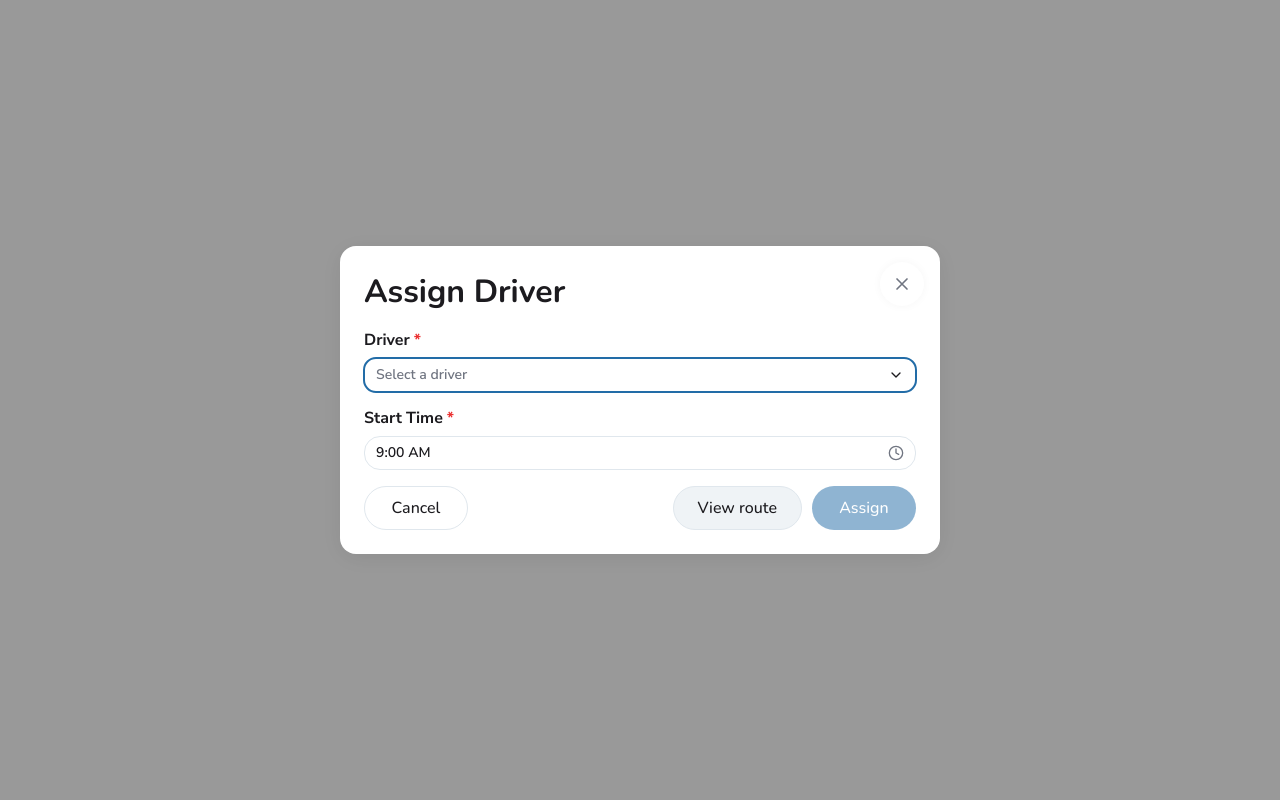
Test: ReassignDriverModal › surfaces the error when the assignment is rejected
This screenshot has width=1280, height=800.
Click the dropdown.
click(422, 374)  # box [364,358,916,392]
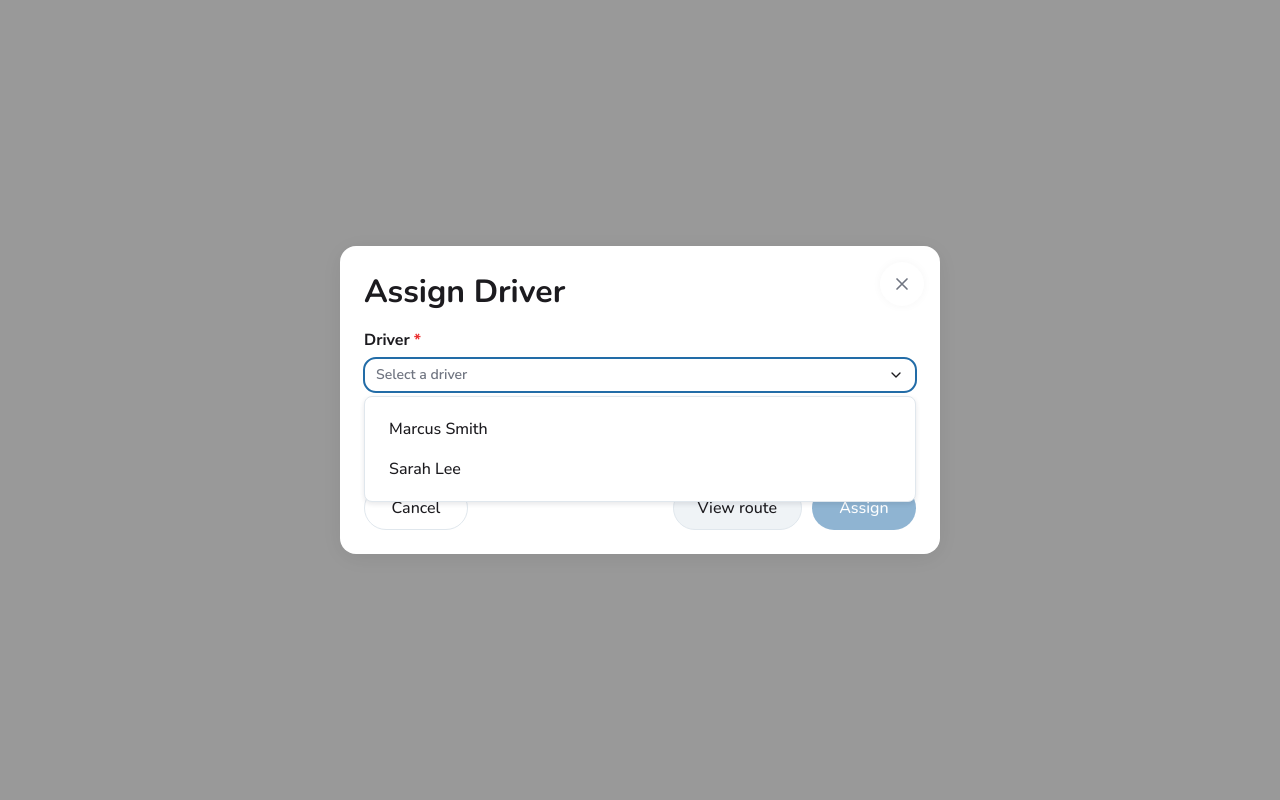
Click the option "Marcus Smith".
click(438, 429)  # box [389,418,488,440]
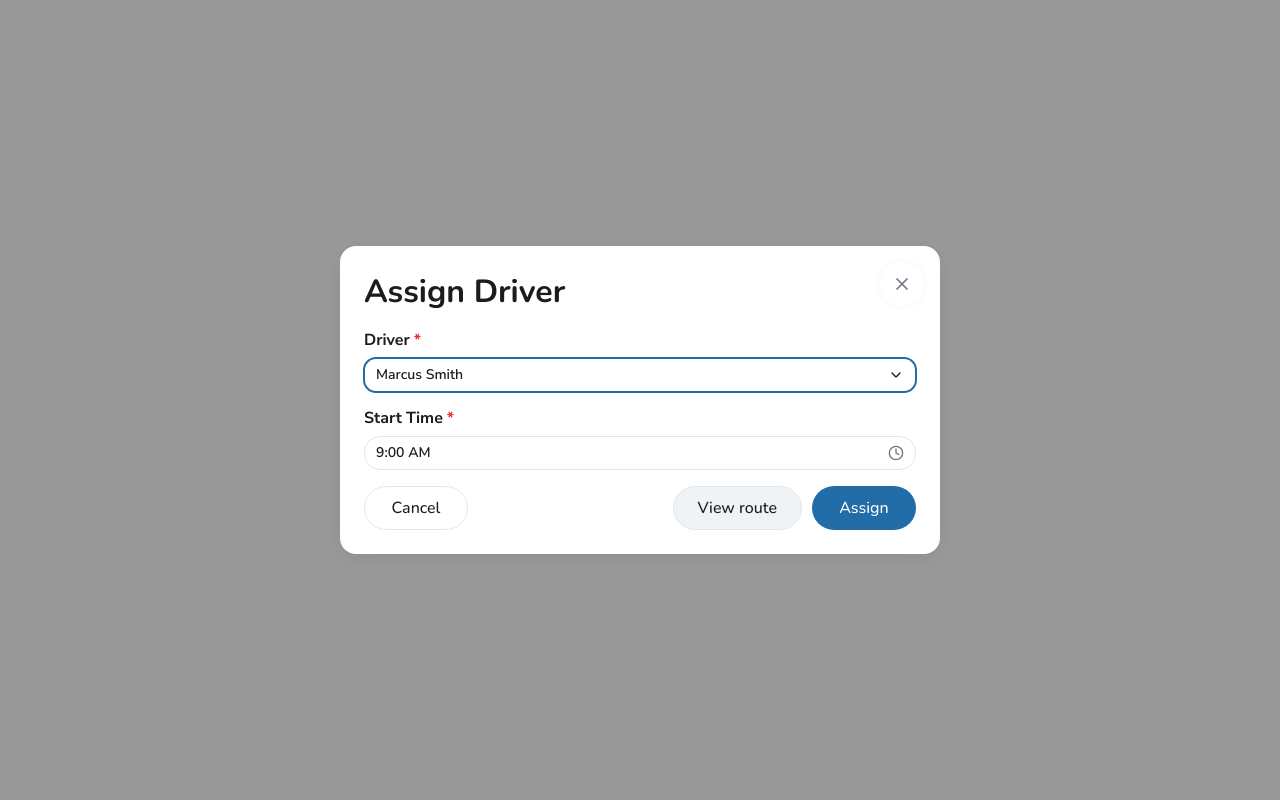
Click the button "Assign".
click(864, 508)  # box [812,486,916,530]
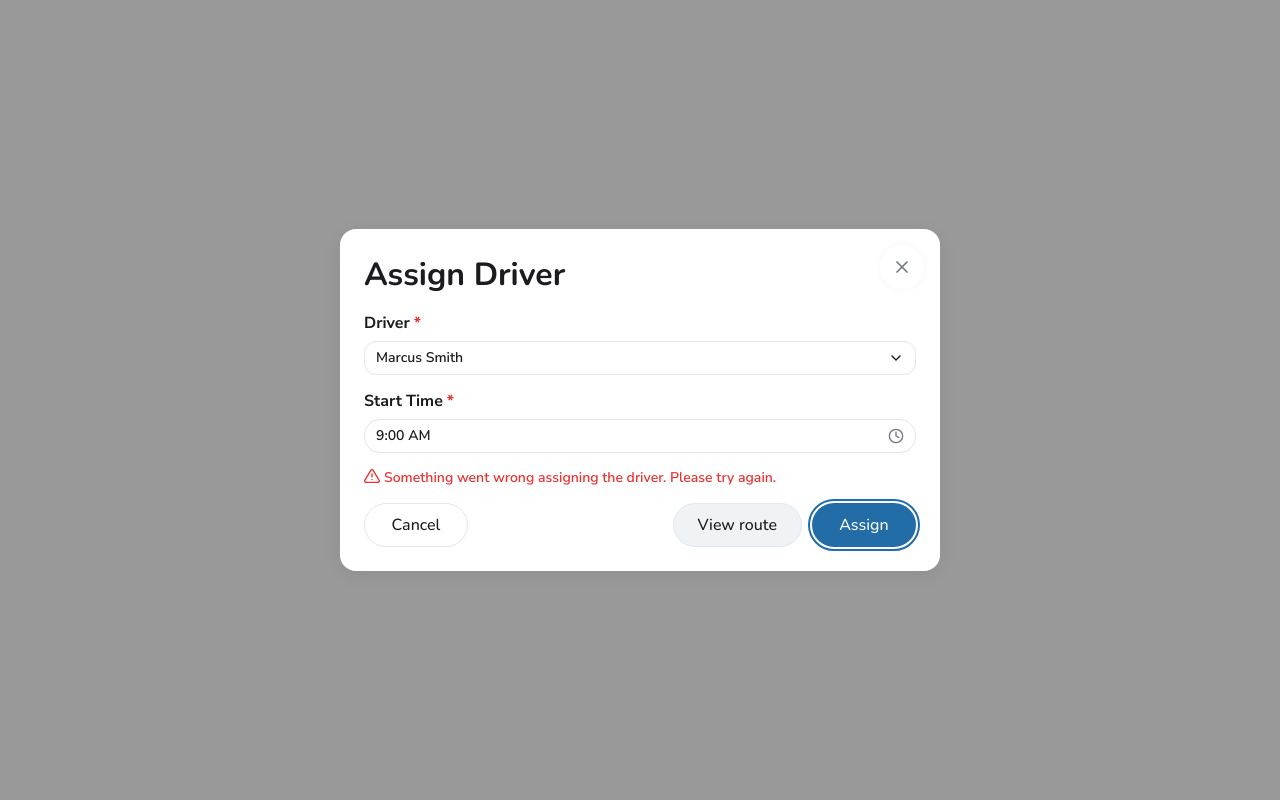
Now the text "Something went wrong assigning the driver. Please try again." is shown, box [384,469,776,487]
